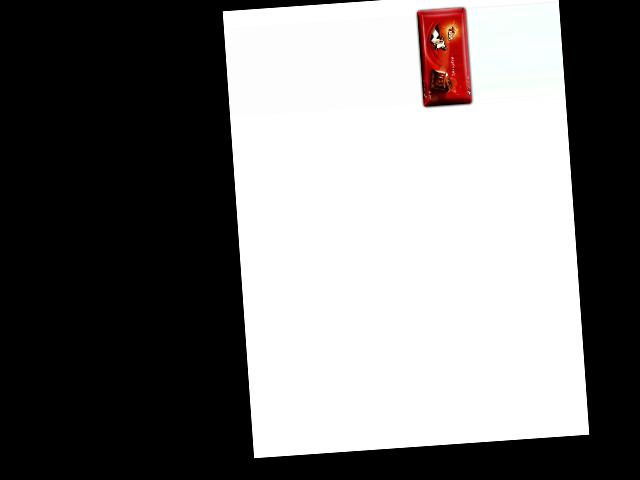chocolate: (413, 2, 472, 108)
